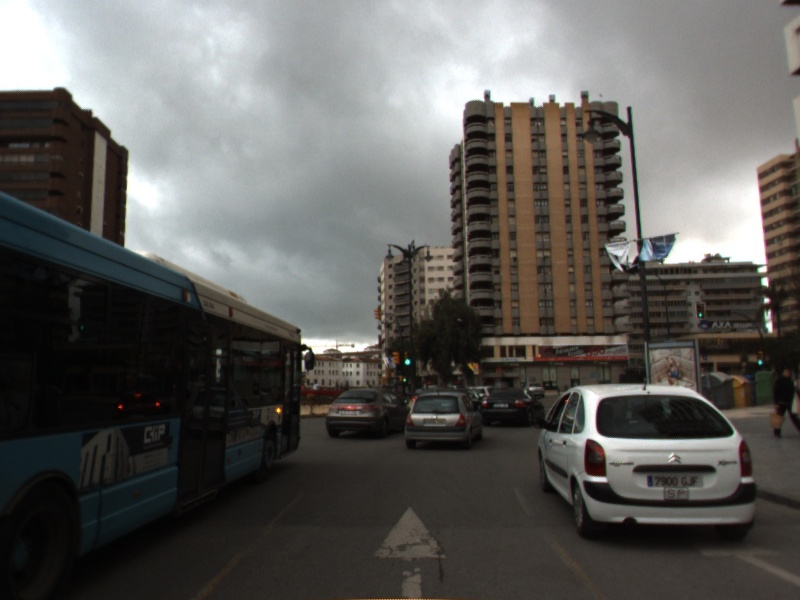STRAIGHT: (370, 502, 454, 600), (693, 529, 800, 591)
